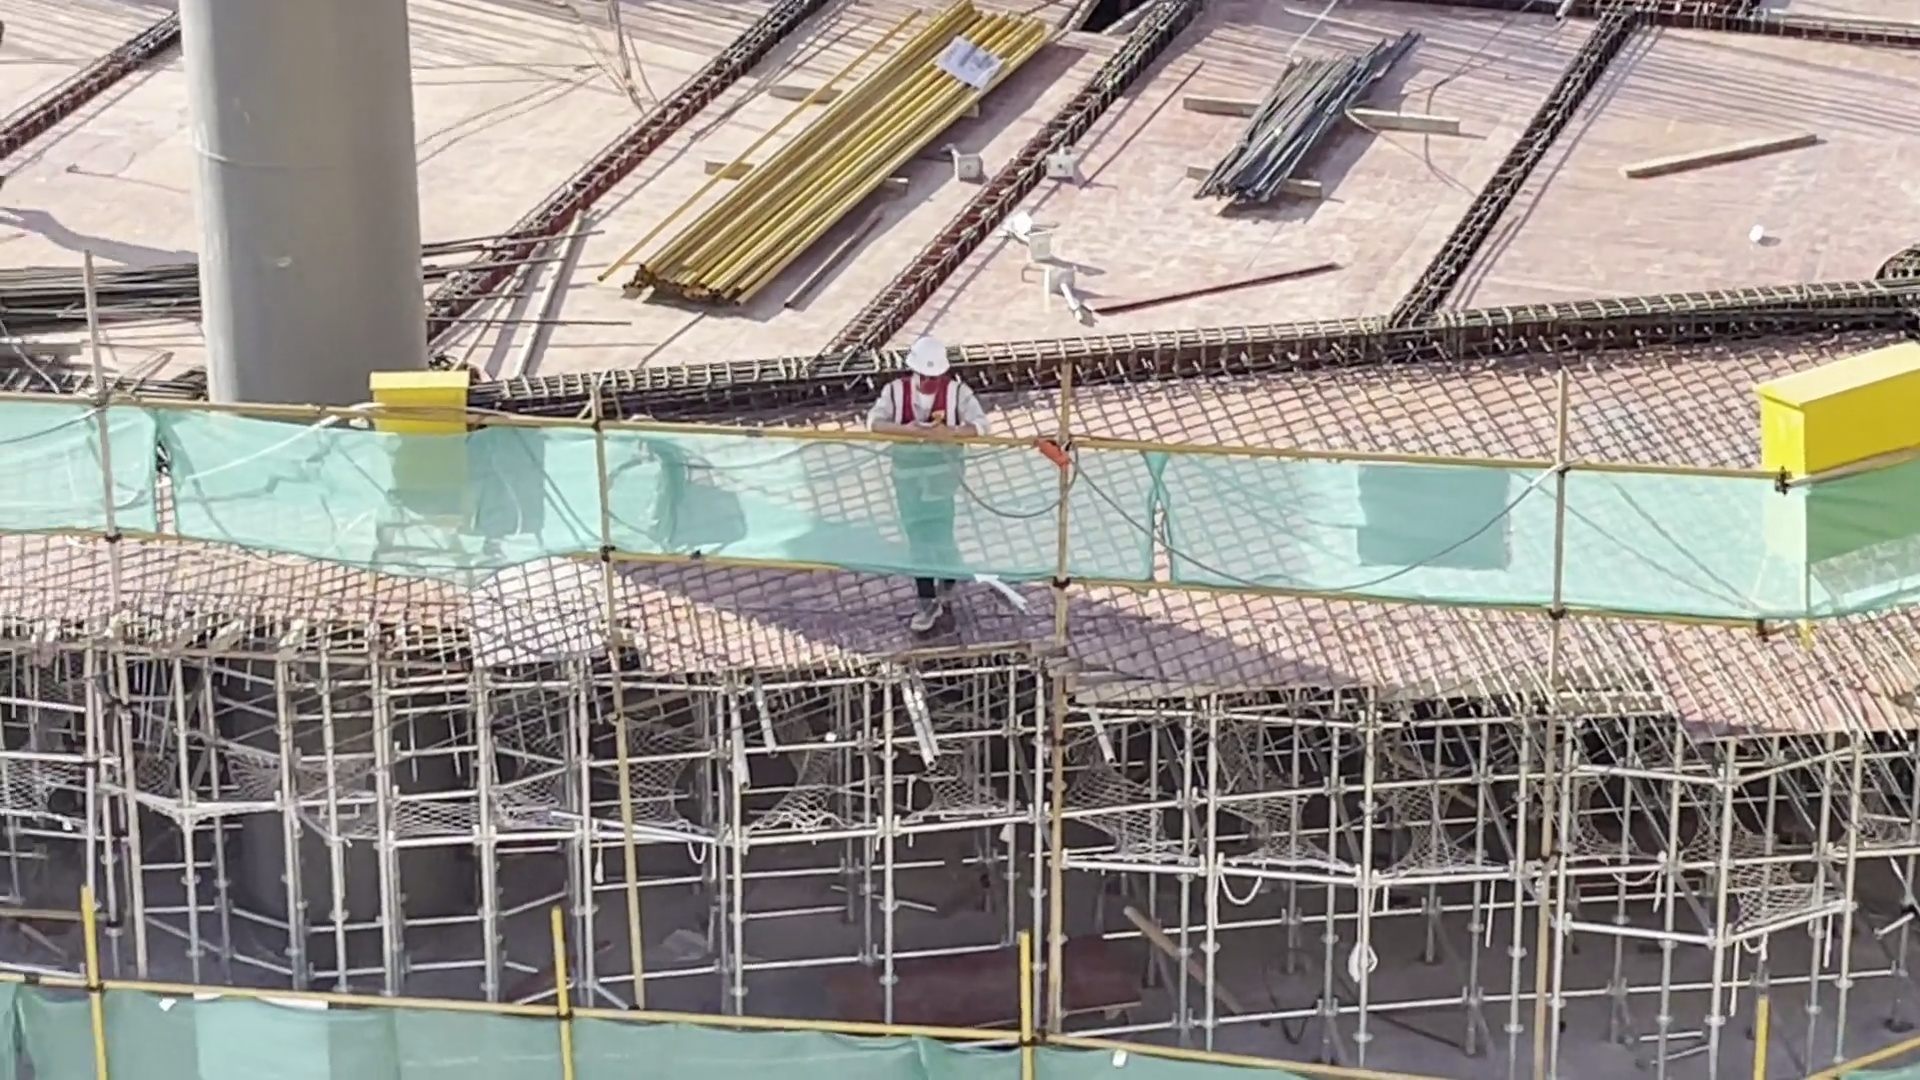ebox: (1748, 331, 1920, 558), (359, 361, 471, 527)
helmet: (902, 334, 948, 379)
person: (869, 327, 1000, 650)
vest: (886, 385, 963, 497)
